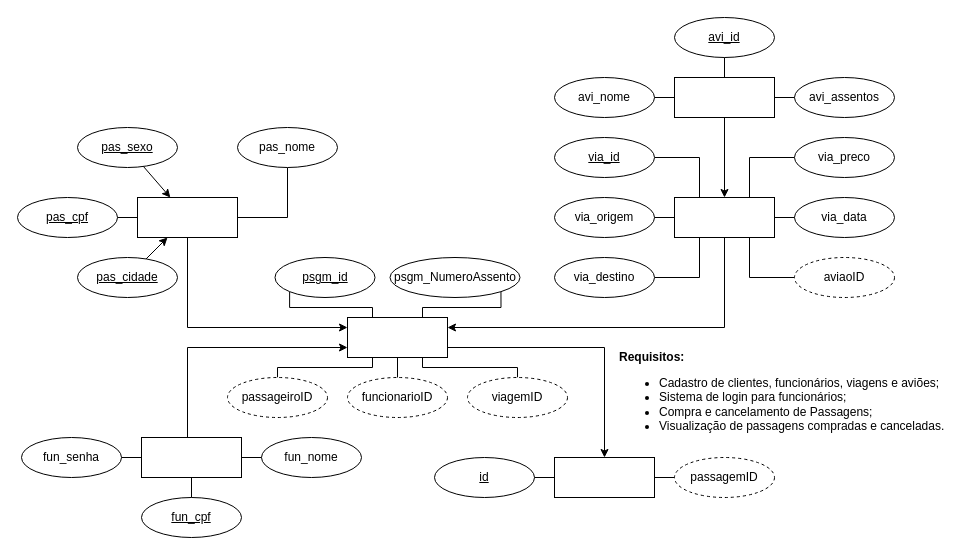
This 975x555 diagram has some shape labels left out. The centre of each missing label's shape, as x and y in pixels:
Avião: point 724,97
Cancelamento: point 604,477
Funcionário: point 191,457
Passageiro: point 187,217
Passagem: point 397,337
Viagem: point 724,217
